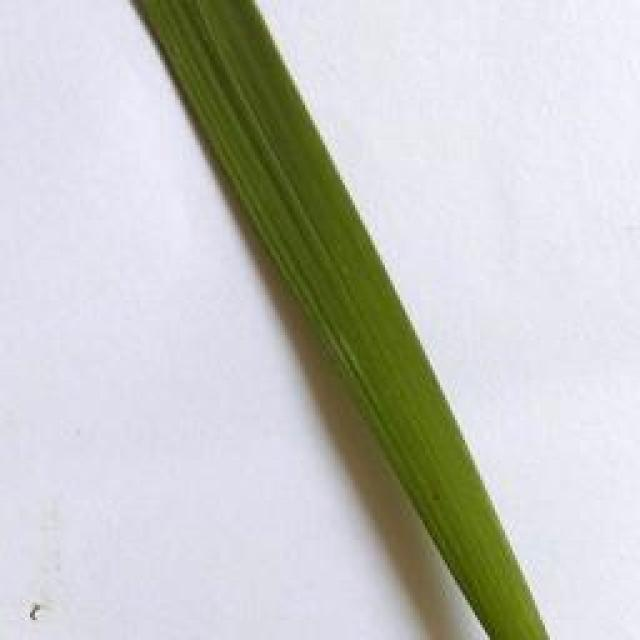Brown_Spot: (416, 482, 453, 516)
